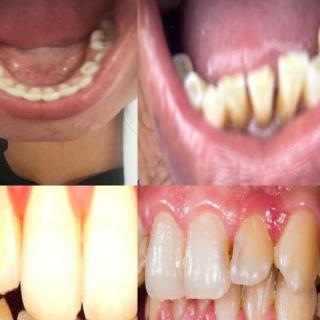Gum Swelling: (140, 186, 320, 247)
cavities: (222, 239, 243, 274), (138, 230, 152, 264), (97, 27, 111, 45), (309, 304, 320, 320)
maligned: (274, 40, 308, 129), (199, 82, 228, 137), (304, 58, 320, 116), (90, 50, 111, 64)
